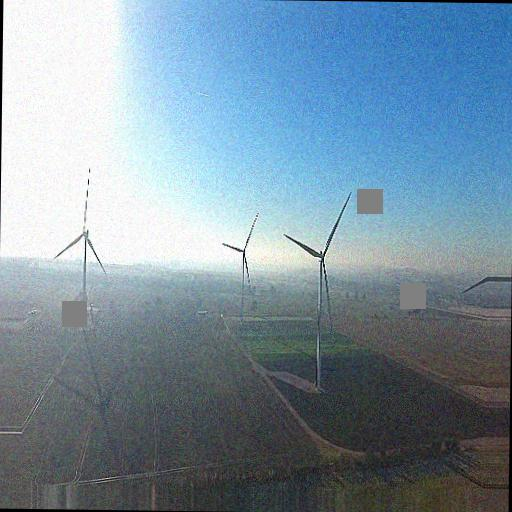wind turbine: (283, 191, 353, 384), (54, 166, 108, 321), (221, 211, 262, 321)
